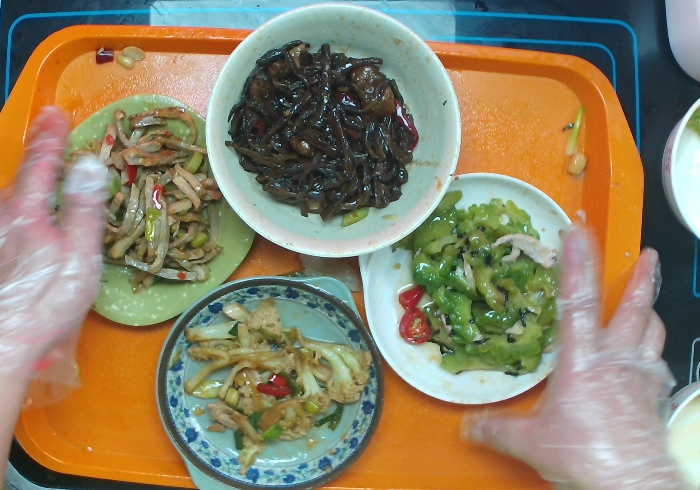NLDX-Bai_Se_Shuang_Er_Die: (350, 164, 593, 406)
NLDX-Bai_Se_Yuan_Wan: (203, 1, 465, 261)
NLDX-Lv_Hua_Fang_Die: (45, 90, 257, 333)
NLDX-Qing_Hua_Shuang_Er_Die: (149, 272, 386, 489)
